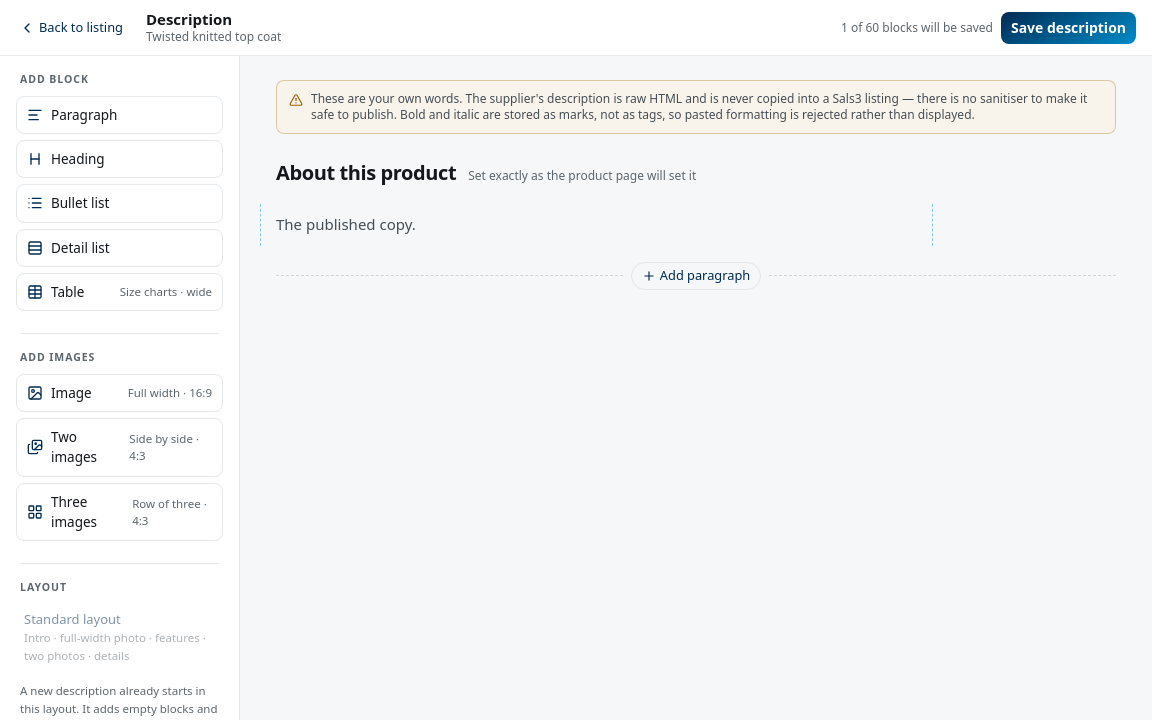
Test case: DescriptionStudioClient › tells a live listing that the storefront has not changed
Step 1. Click the button "Save description" → (1068, 28), box x1=1001 y1=12 x2=1136 y2=44
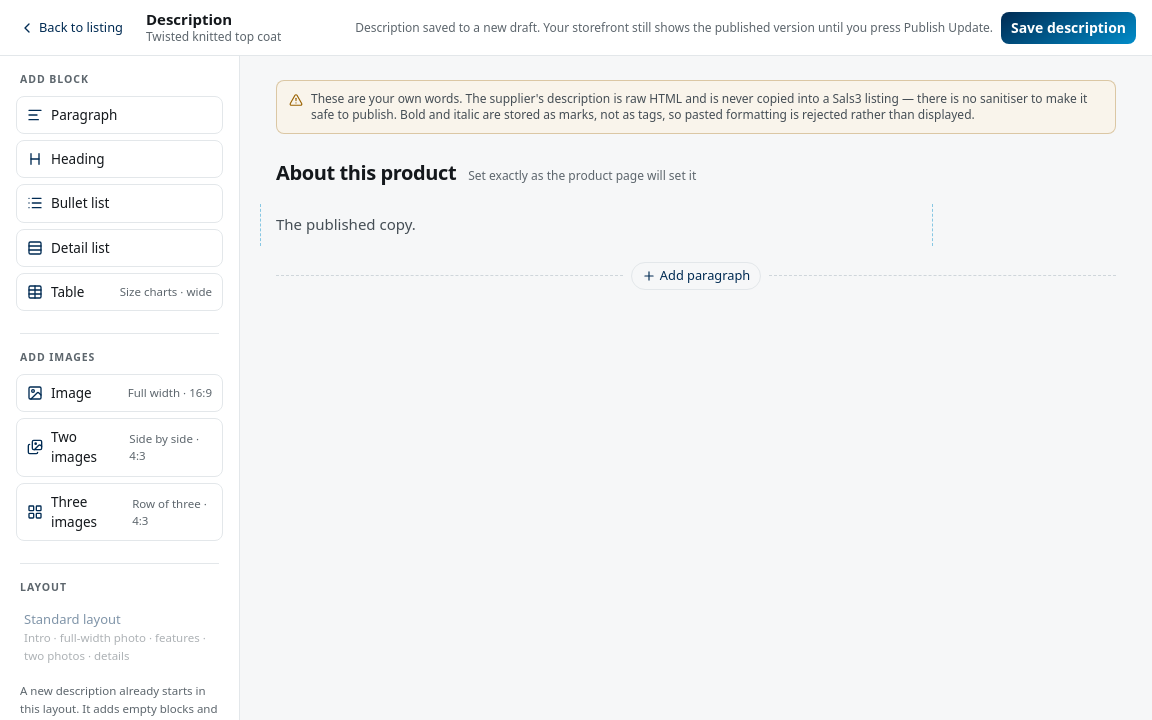
Check: the text "still shows the published version" is shown, box x1=355 y1=18 x2=993 y2=36
